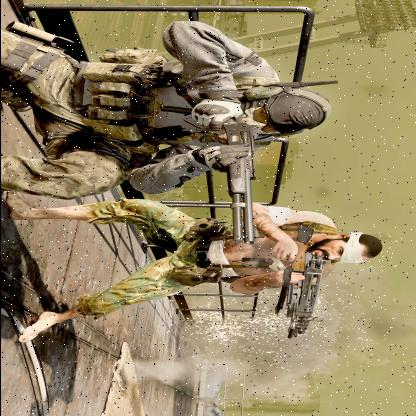rifle: (197, 113, 259, 246)
